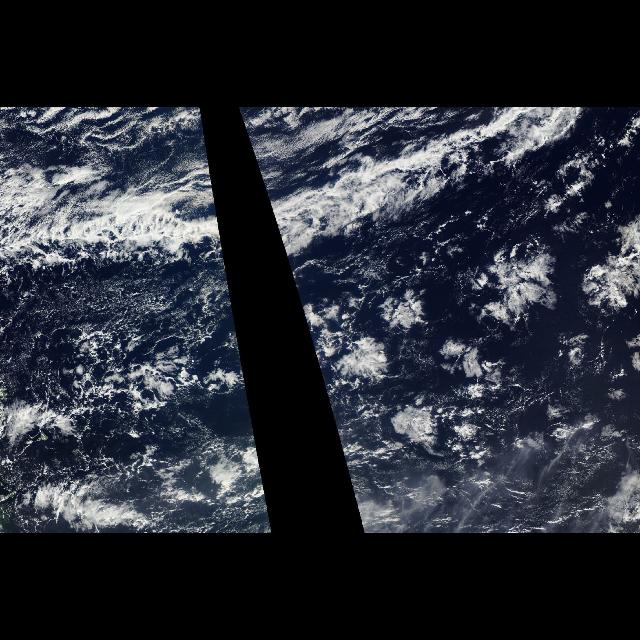Fish: (239, 111, 635, 276), (2, 111, 228, 276)
Flower: (306, 204, 636, 451)
Gravel: (2, 264, 252, 448)
